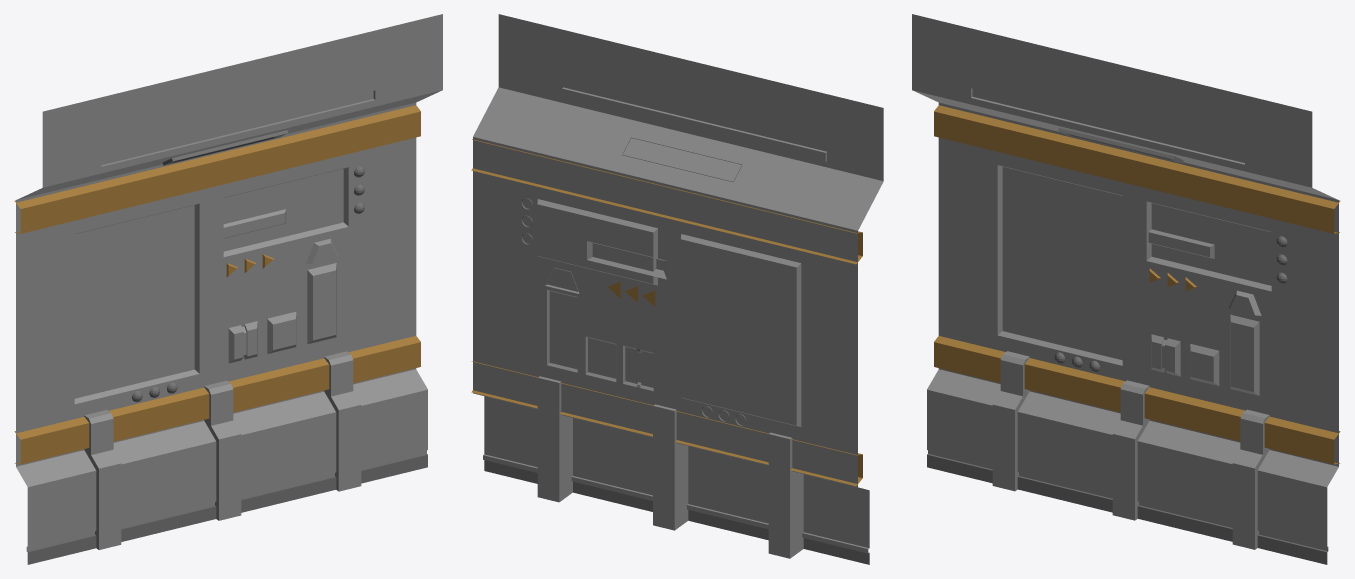
The model's file is wall-1.glb.
3 views of the same model, side by side, from view 1: azimuth 30°, elevation 25°; view 2: azimuth 150°, elevation 25°; view 3: azimuth 330°, elevation 25° (orthographic). The views are drawn at different scales.
Parts seen in each view (by area): view 1: Wall_1; view 2: Wall_1; view 3: Wall_1.
Boxes of the visible parts, x1,y1,x2,y2 form: Wall_1: (14,14,442,564); Wall_1: (471,14,883,564); Wall_1: (912,14,1340,564).
Bounding box in the file's own units: 4 × 4.43 × 0.5447.
